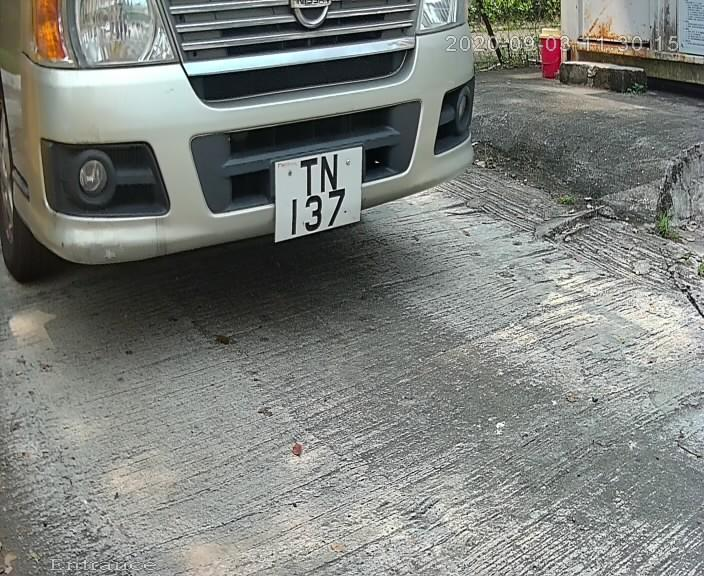License Plate: (261, 137, 371, 247)
